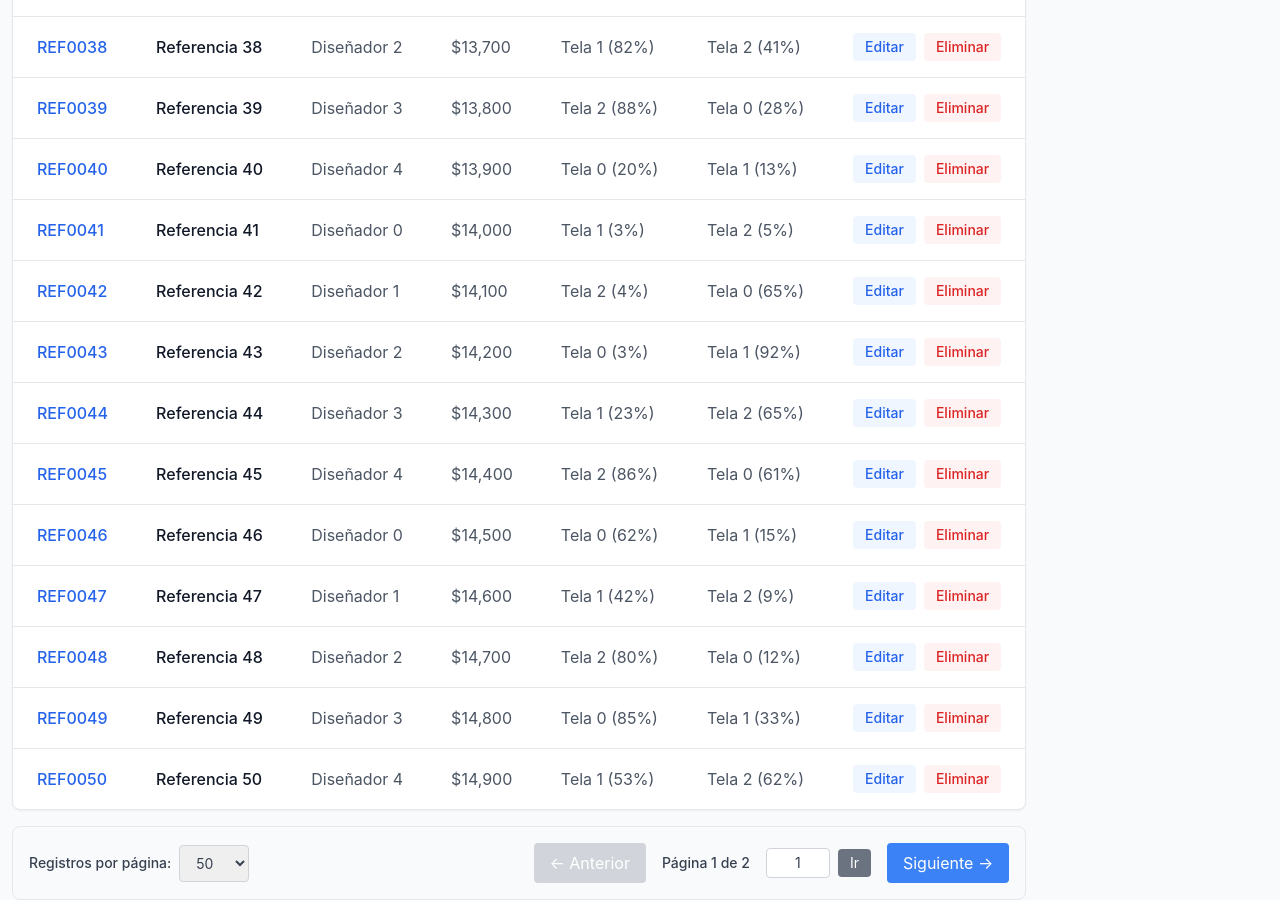
it: ReferencesModule Unit Tests › Search/Filters › should reset to page 1 when searching
(page scrolled)
Click the button "Siguiente →" at (948, 863), box [887, 843, 1009, 883]
(page scrolled)
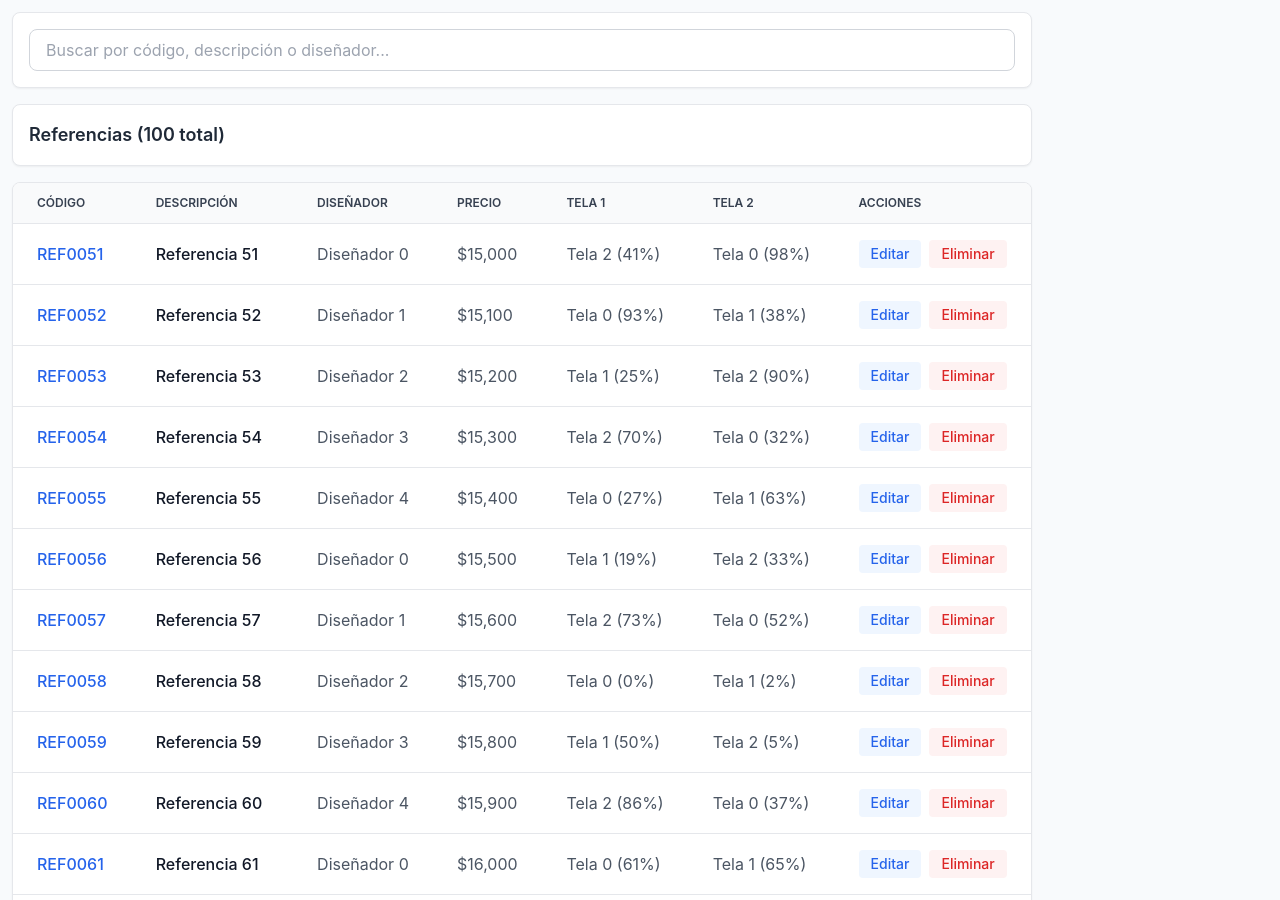
Type "Referencia 1" into the field with placeholder "Buscar por código, descripción o diseñador..." at (522, 50), box [29, 29, 1015, 71]
(page scrolled)
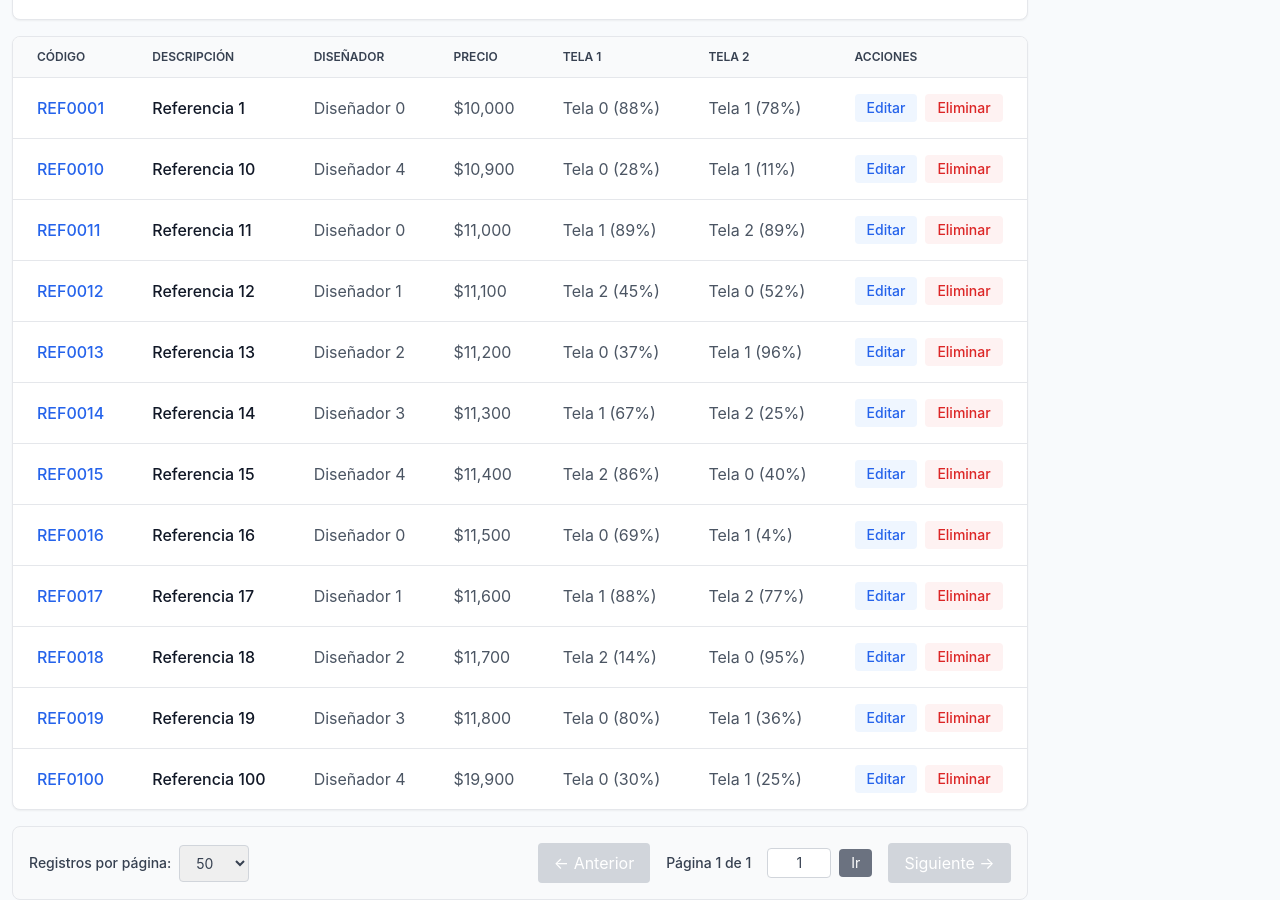
Check: the text "Página 1 de 1" is shown, box [666, 853, 751, 873]
